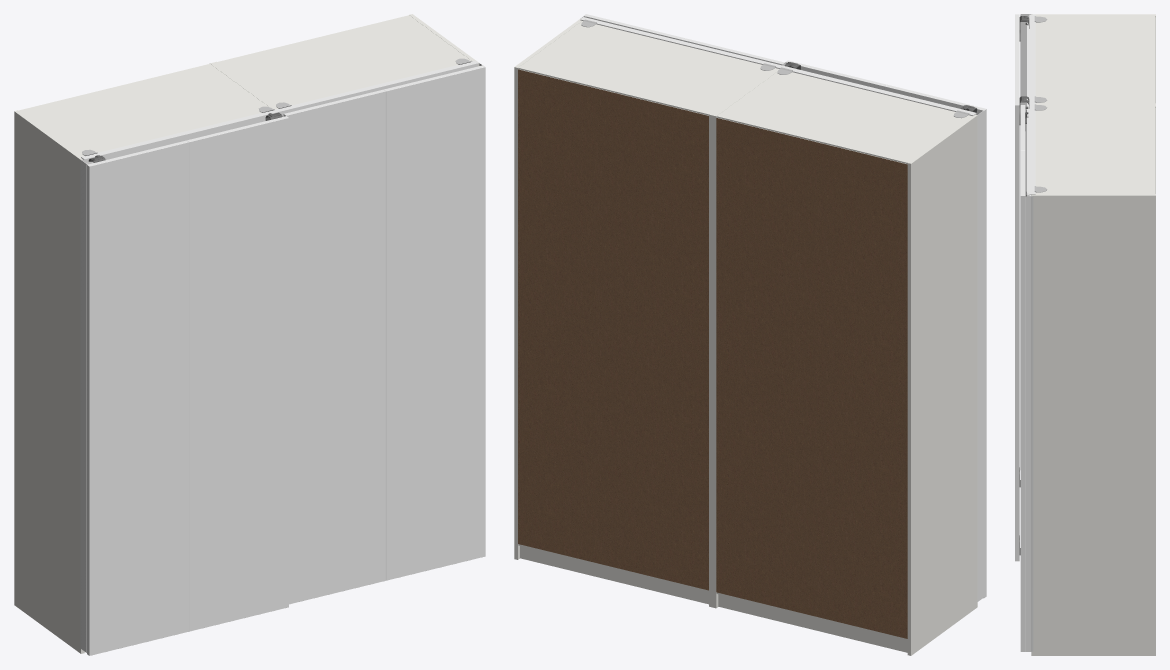
The model's file is pax_hasvik_szafa_59489927.glb.
The picture shows the model from 3 angles, left to right: view 1: azimuth 30°, elevation 25°; view 2: azimuth 150°, elevation 25°; view 3: azimuth 270°, elevation 25°; orthographic projection. The views are drawn at different scales.
Visible parts, largest first — view 1: pax_hasvik_szafa_59489927; view 2: pax_hasvik_szafa_59489927; view 3: pax_hasvik_szafa_59489927.
Boxes of the visible parts, x1,y1,x2,y2 form: pax_hasvik_szafa_59489927: (14, 14, 485, 655); pax_hasvik_szafa_59489927: (514, 14, 986, 655); pax_hasvik_szafa_59489927: (1015, 14, 1155, 655).
Bounding box in the file's own units: 2 × 2.38 × 0.6554.
Materials: 7 (2 with a texture image).
